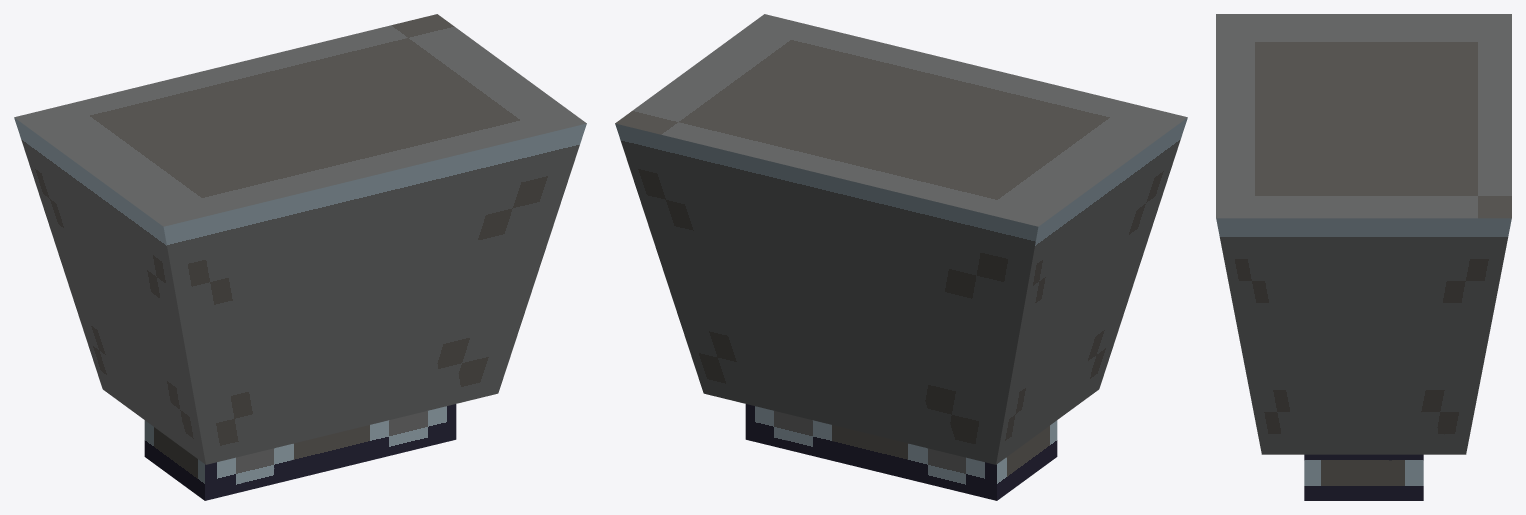
The model's file is minecart.gltf.
3 views of the same model, side by side, from view 1: azimuth 30°, elevation 25°; view 2: azimuth 150°, elevation 25°; view 3: azimuth 270°, elevation 25° (orthographic).
Visible parts, largest first — view 1: Cube; view 2: Cube; view 3: Cube.
Part boxes in pixels (x1,y1,x2,y2): Cube: (14, 14, 586, 500); Cube: (615, 14, 1187, 500); Cube: (1216, 14, 1511, 500).
Bounding box in the file's own units: 3.27 × 2.42 × 2.
Materials: 1 (1 with a texture image).
